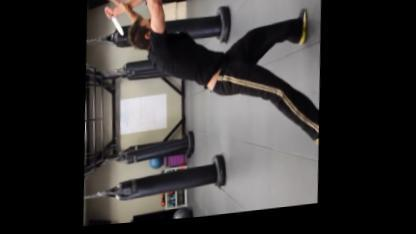knife: (100, 4, 126, 43)
